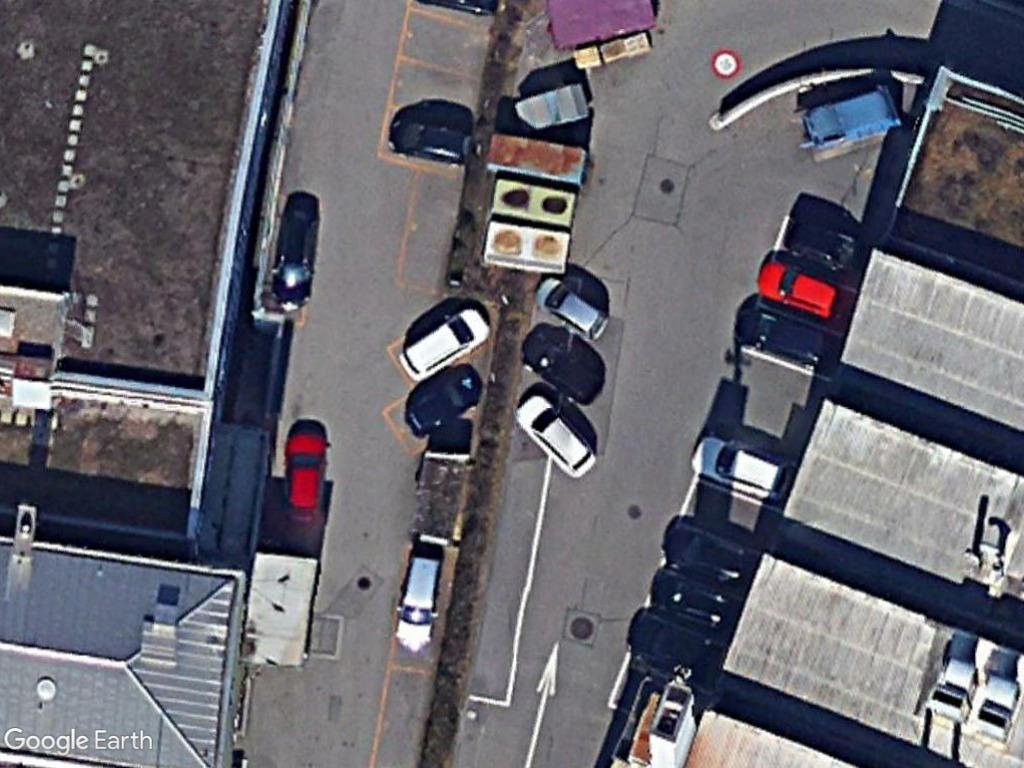car: (396, 303, 493, 384), (688, 435, 795, 506), (514, 391, 598, 481), (531, 274, 613, 341), (754, 260, 841, 322), (394, 551, 446, 652), (283, 429, 330, 536)
